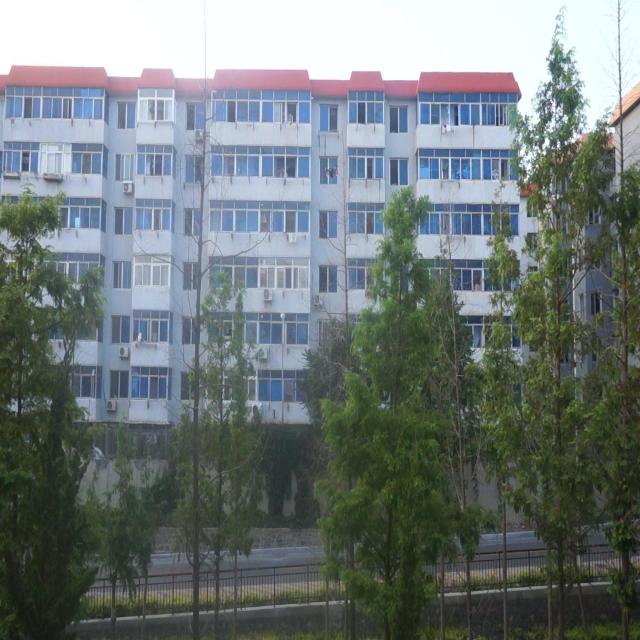drone: (324, 163, 340, 183)
